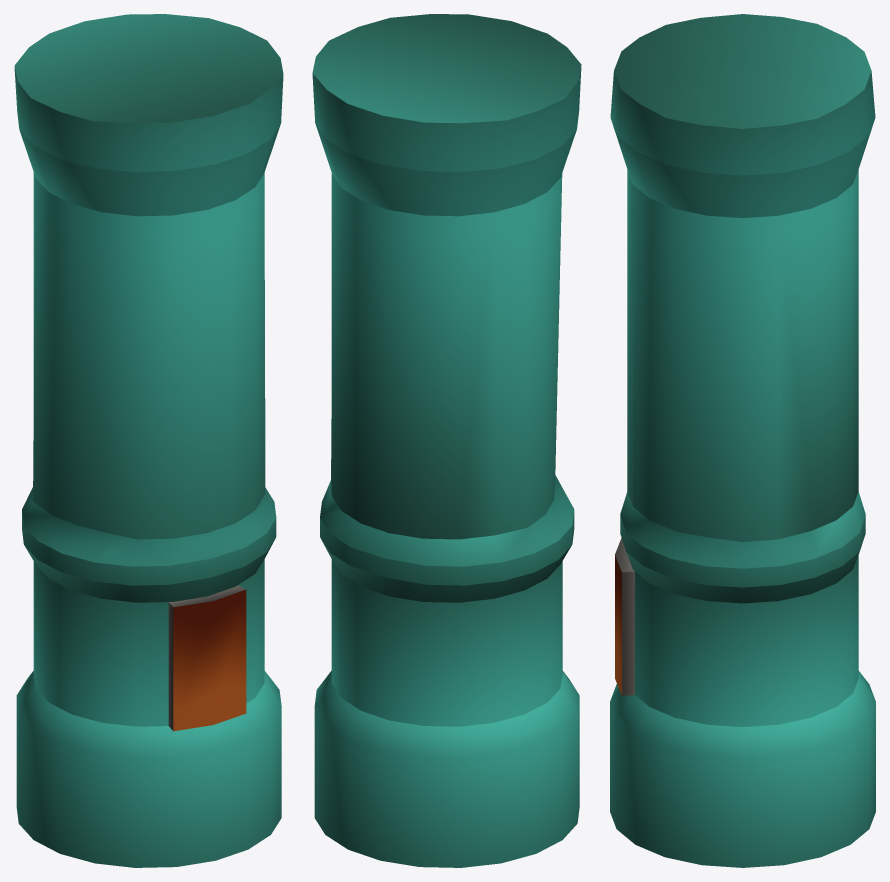
Rendered from Hieno kakluuni.fbx.
The picture shows the model from 3 angles, left to right: view 1: azimuth 30°, elevation 25°; view 2: azimuth 150°, elevation 25°; view 3: azimuth 270°, elevation 25°; orthographic projection.
Visible parts, largest first — view 1: pCylinder1; view 2: pCylinder1; view 3: pCylinder1.
Part boxes in pixels (x1=…): pCylinder1: x1=14, y1=14, x2=283, y2=867; pCylinder1: x1=312, y1=14, x2=581, y2=867; pCylinder1: x1=610, y1=14, x2=875, y2=867.
Bounding box in the file's own units: 4.04 × 12.23 × 3.95.
